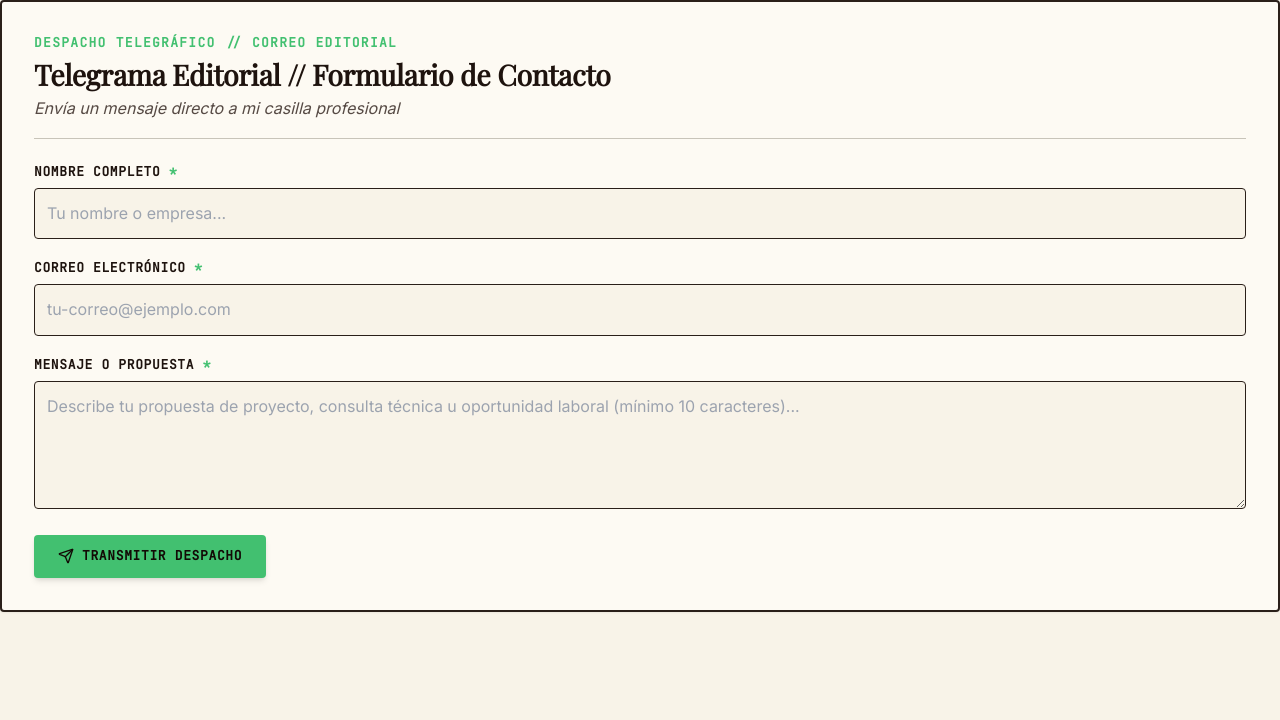
Test case: ContactForm Component (Zod validation & a11y) › valida formato de email incorrecto y longitud mínima de mensaje
In the field labelled "Nombre Completo *": (640, 214) [34,188,1246,239], type "Marco Barzola"
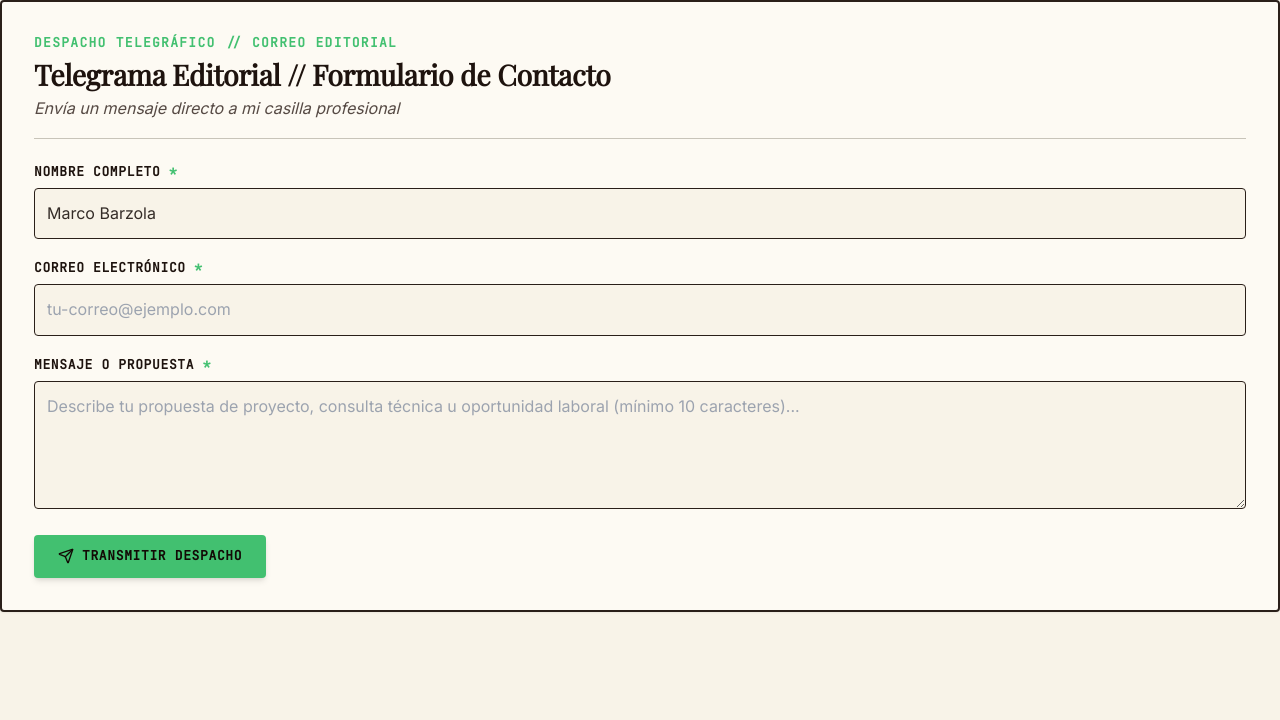
In the field labelled "Correo Electrónico *": (640, 310) [34,284,1246,336], type "correo-invalido"
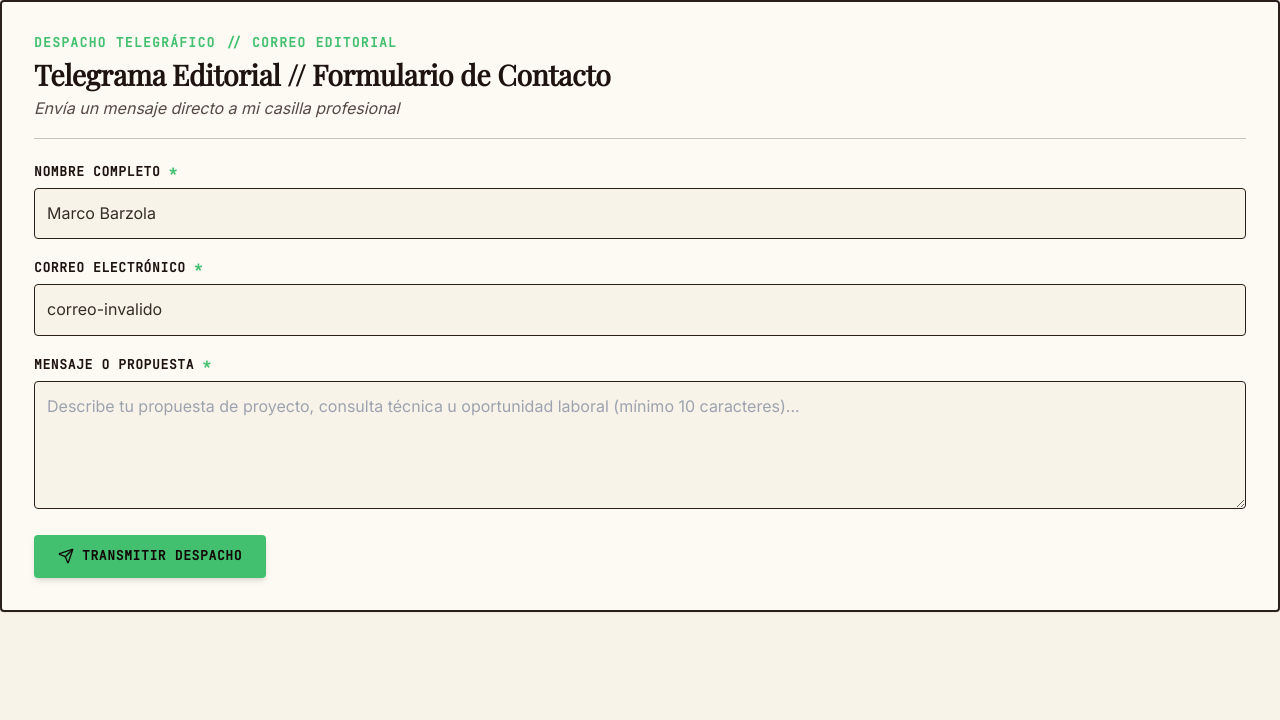
Replace the text in the text box labelled "Mensaje o Propuesta *" with "Corto": (640, 445) [34,380,1246,509]
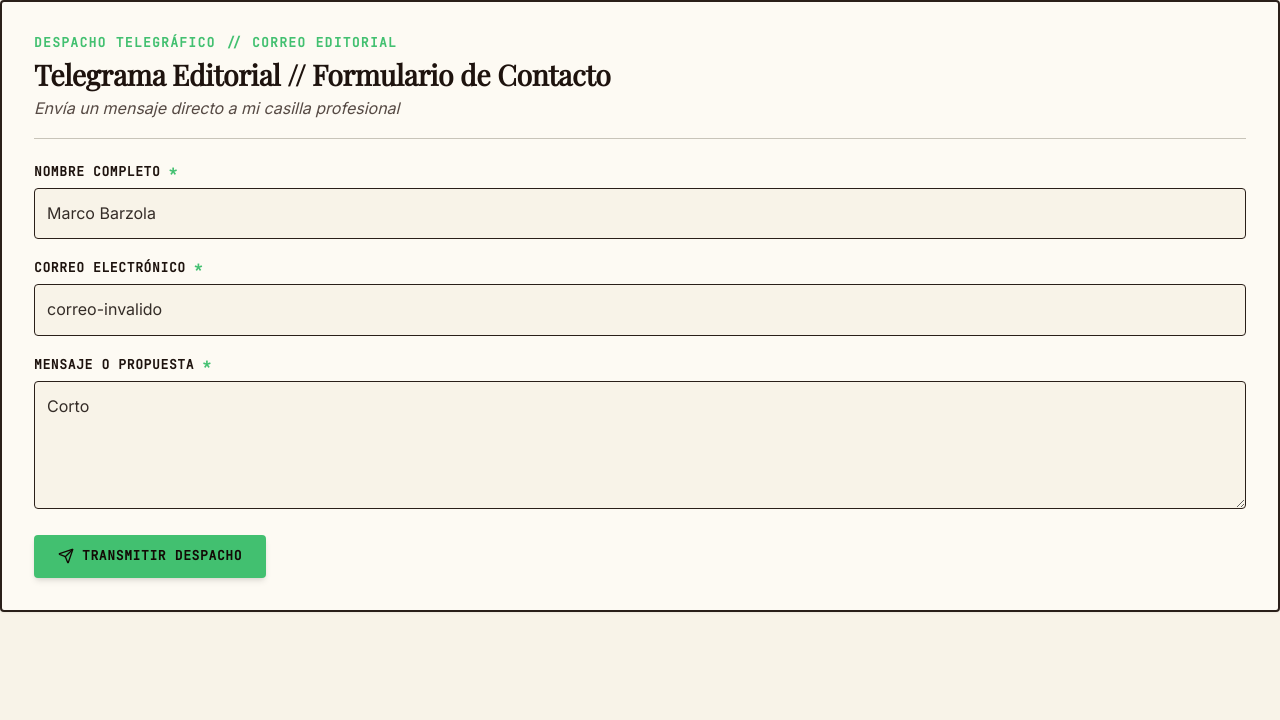
Click the button "Transmitir Despacho": (150, 556) [34,535,266,578]
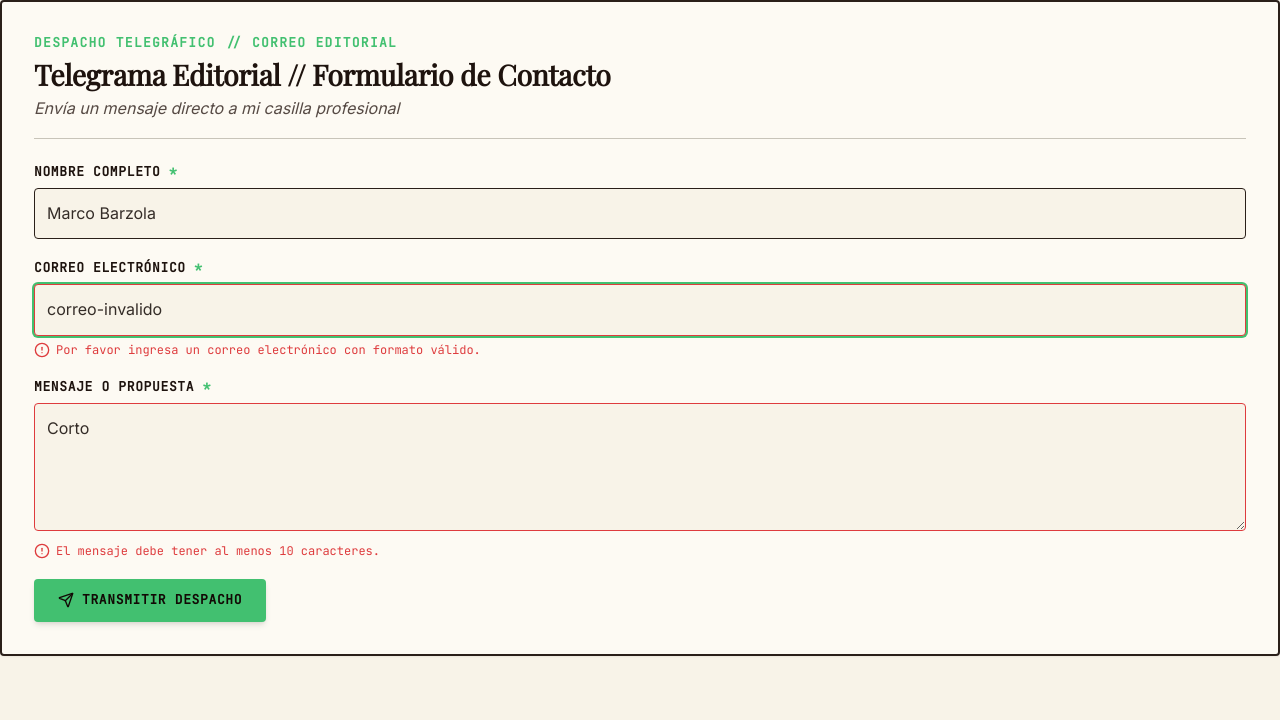
Now the text "Por favor ingresa un correo electrónico con formato válido." is shown, box [56,342,481,358]
Now the text "El mensaje debe tener al menos 10 caracteres." is shown, box [56,543,380,559]
